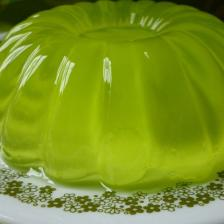green: (0, 0, 224, 187)
